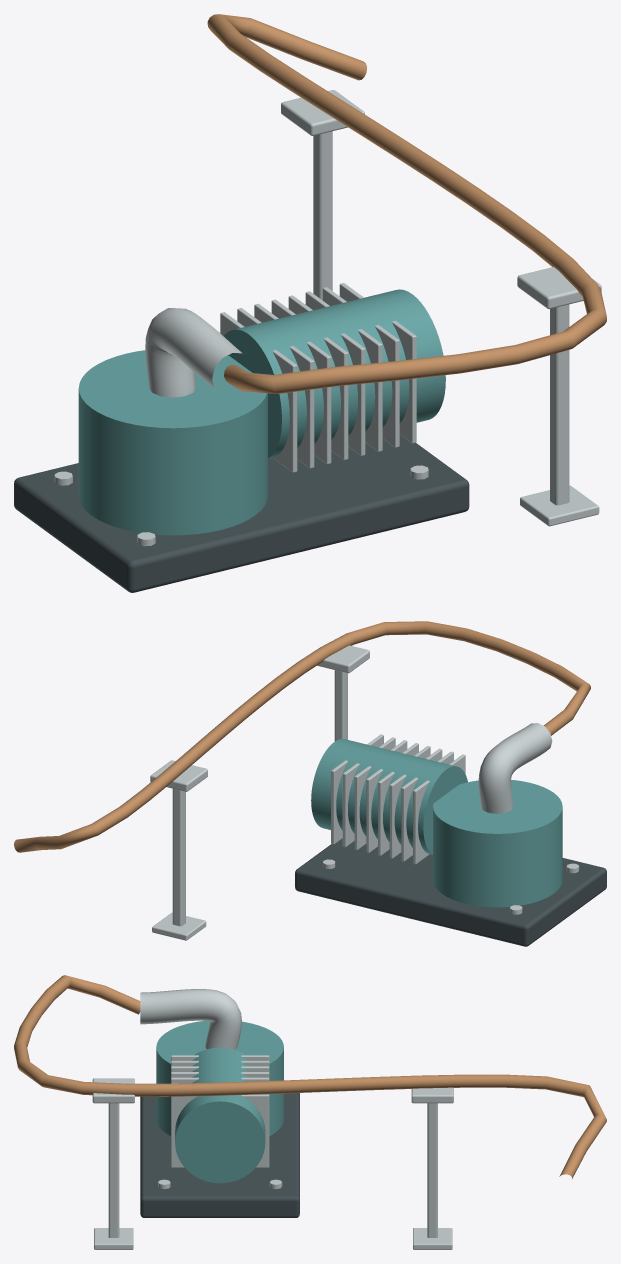
Rendered from hydroelectric-dam-infiltration-cooling-pump-d6d9c2db__29360.glb.
3 views of the same model, one above another, from view 1: azimuth 30°, elevation 25°; view 2: azimuth 150°, elevation 25°; view 3: azimuth 270°, elevation 25° (orthographic). The views are drawn at different scales.
Parts seen in each view (by area): view 1: cooling-pump; view 2: cooling-pump; view 3: cooling-pump.
Part boxes in pixels (bbox=[...]): cooling-pump: bbox=[14, 14, 606, 592]; cooling-pump: bbox=[14, 621, 606, 946]; cooling-pump: bbox=[14, 975, 606, 1249].
Bounding box in the file's own units: 1.61 × 0.689 × 2.23.
